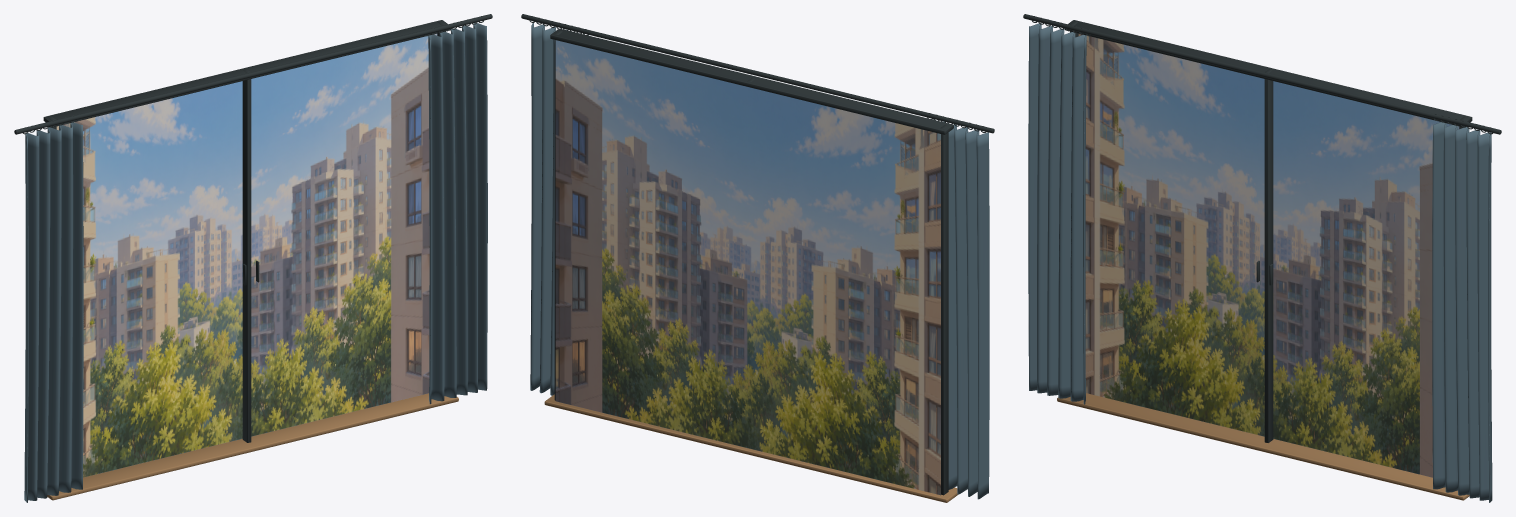
File: urban-floor-window-v2.glb
The picture shows the model from 3 angles, left to right: view 1: azimuth 30°, elevation 25°; view 2: azimuth 150°, elevation 25°; view 3: azimuth 330°, elevation 25°; orthographic projection.
Visible parts, largest first — view 1: WindowView-city, Soft curtain panel.001, Soft curtain panel, Oak threshold, Sliding aluminium mullion.001, Recessed sliding track.001, Curtain pole; view 2: WindowView-city, Soft curtain panel, Soft curtain panel.001, Recessed sliding track.001, Oak threshold, Sliding aluminium mullion, Curtain pole, Sliding aluminium mullion.002; view 3: WindowView-city, Soft curtain panel.001, Soft curtain panel, Oak threshold, Sliding aluminium mullion.001, Recessed sliding track.001, Curtain pole.
Part boxes in pixels (x1,y1,x2,y2): WindowView-city: (56,33,437,477); Soft curtain panel.001: (428,22,487,404); Soft curtain panel: (24,122,83,502); Oak threshold: (47,393,458,500); Sliding aluminium mullion.001: (242,69,251,442); Recessed sliding track.001: (43,20,451,126); Curtain pole: (14,14,492,134); WindowView-city: (555,40,940,495); Soft curtain panel: (933,119,989,499); Soft curtain panel.001: (530,21,588,395); Recessed sliding track.001: (550,28,953,134); Oak threshold: (544,394,957,502); Sliding aluminium mullion: (940,124,948,495); Curtain pole: (521,14,994,133); Sliding aluminium mullion.002: (554,30,562,400); WindowView-city: (1078,33,1459,477); Soft curtain panel.001: (1432,122,1492,502); Soft curtain panel: (1028,23,1086,404); Oak threshold: (1057,393,1469,500); Sliding aluminium mullion.001: (1264,69,1273,442); Recessed sliding track.001: (1064,20,1472,126); Curtain pole: (1023,14,1501,134).
Size of the model in its own units: 2.96 by 2.25 by 0.1827.
4 materials, 4 textured.
